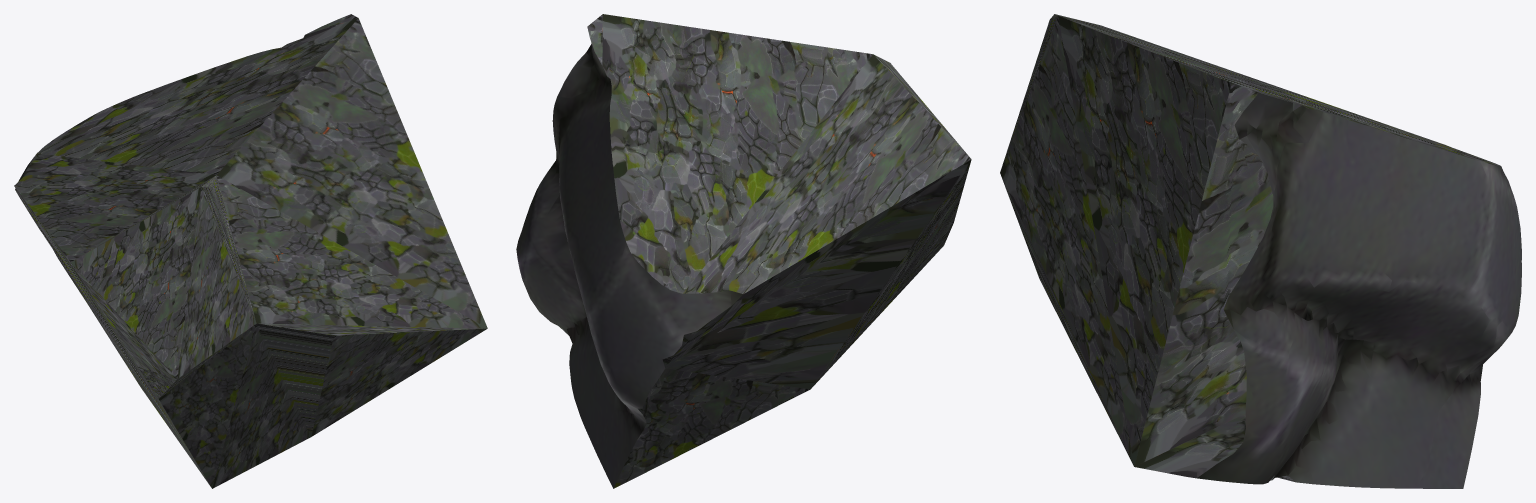
The model's file is Frag_08.gltf.
3 views of the same model, side by side, from view 1: azimuth 30°, elevation 25°; view 2: azimuth 150°, elevation 25°; view 3: azimuth 270°, elevation 25° (orthographic). The views are drawn at different scales.
Parts seen in each view (by area): view 1: Frag_08; view 2: Frag_08; view 3: Frag_08.
Boxes of the visible parts, x1,y1,x2,y2 form: Frag_08: (14, 14, 487, 488); Frag_08: (516, 14, 971, 488); Frag_08: (1000, 14, 1521, 488).
Bounding box in the file's own units: 0.2939 × 0.2669 × 0.2695.
Materials: 1 (1 with a texture image).
